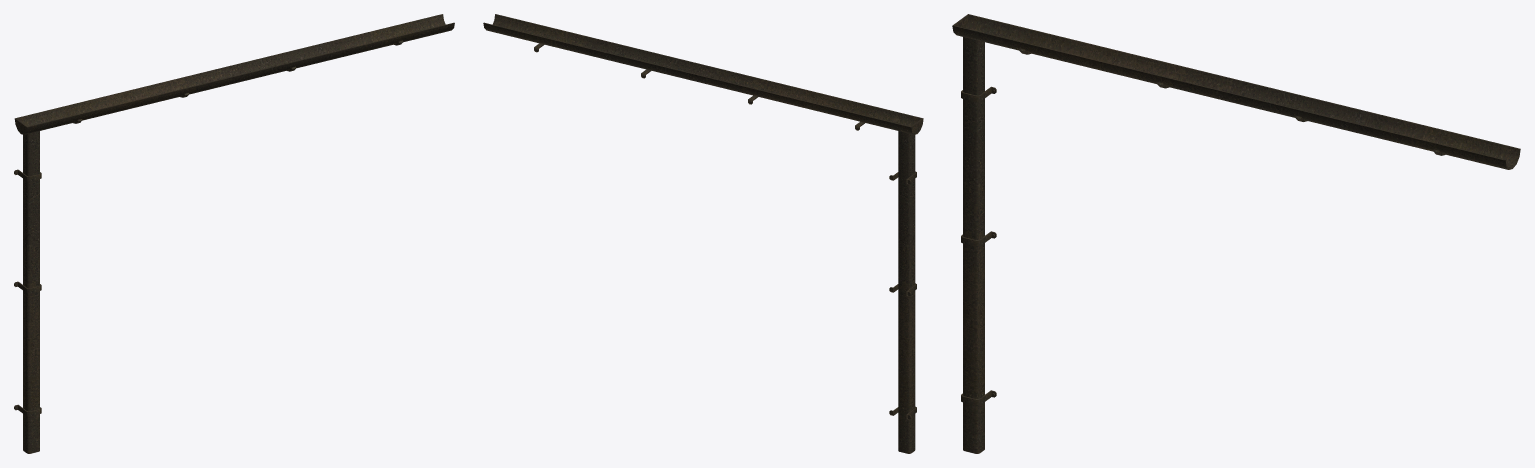
File: rainwater_pipe_hl_1_end_2.glb
The picture shows the model from 3 angles, left to right: view 1: azimuth 30°, elevation 25°; view 2: azimuth 150°, elevation 25°; view 3: azimuth 330°, elevation 25°; orthographic projection. The views are drawn at different scales.
Parts seen in each view (by area): view 1: rainwater_pipe_hl_1_end_2; view 2: rainwater_pipe_hl_1_end_2; view 3: rainwater_pipe_hl_1_end_2.
Boxes of the visible parts, x1,y1,x2,y2 form: rainwater_pipe_hl_1_end_2: (14,14,454,453); rainwater_pipe_hl_1_end_2: (483,14,923,453); rainwater_pipe_hl_1_end_2: (952,14,1520,453).
Size of the model in its own units: 4 by 2.95 by 0.21.
1 material, 1 textured.
